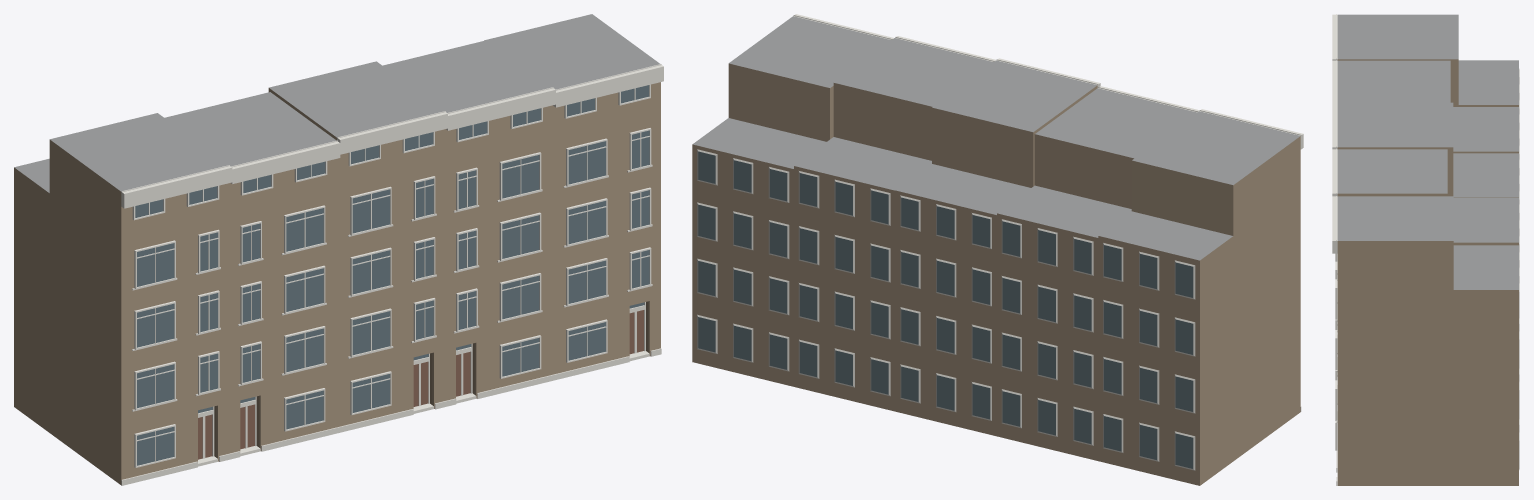
The model's file is chunk-face-leijnsen-3-31-r1.glb.
3 views of the same model, side by side, from view 1: azimuth 30°, elevation 25°; view 2: azimuth 150°, elevation 25°; view 3: azimuth 270°, elevation 25° (orthographic). The views are drawn at different scales.
Parts seen in each view (by area): view 1: face-leijnsen-3-31-r1; view 2: face-leijnsen-3-31-r1; view 3: face-leijnsen-3-31-r1.
Boxes of the visible parts, x1,y1,x2,y2 form: face-leijnsen-3-31-r1: [14, 14, 663, 485]; face-leijnsen-3-31-r1: [692, 14, 1303, 485]; face-leijnsen-3-31-r1: [1332, 14, 1519, 485].
Size of the model in its own units: 30.52 by 15.98 by 10.84.
